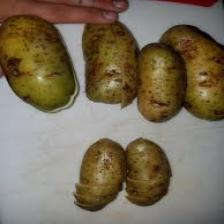Damaged potato: (1, 11, 81, 117), (164, 20, 224, 126), (82, 21, 139, 112), (131, 41, 185, 127), (74, 135, 128, 211), (120, 138, 176, 209)
